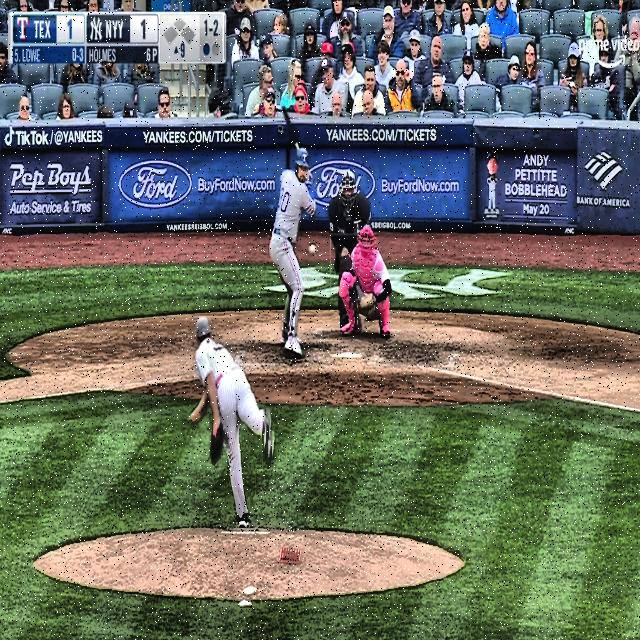baseball: (308, 243, 317, 255)
